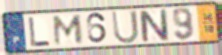6: (85, 11, 109, 45)
9: (171, 6, 196, 42)
L: (27, 16, 52, 47)
M: (53, 14, 84, 47)
N: (137, 8, 171, 44)
U: (110, 9, 141, 45)
